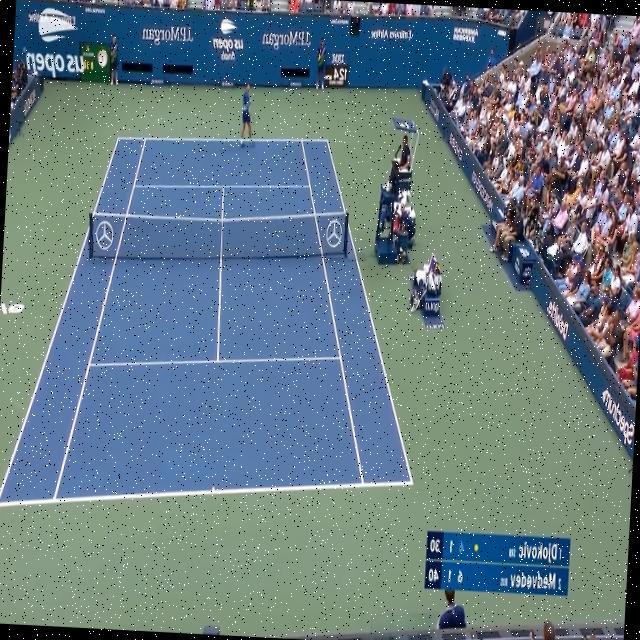Emirates: (389, 28, 413, 43)
